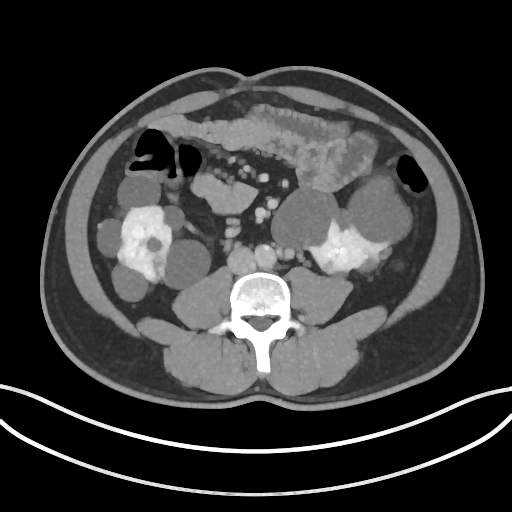Lesion: (149, 253, 163, 279)
